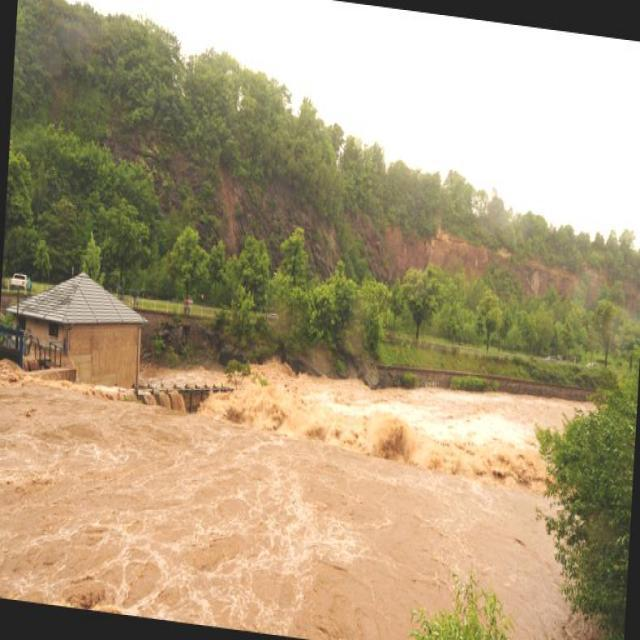flood: (0, 329, 582, 639)
